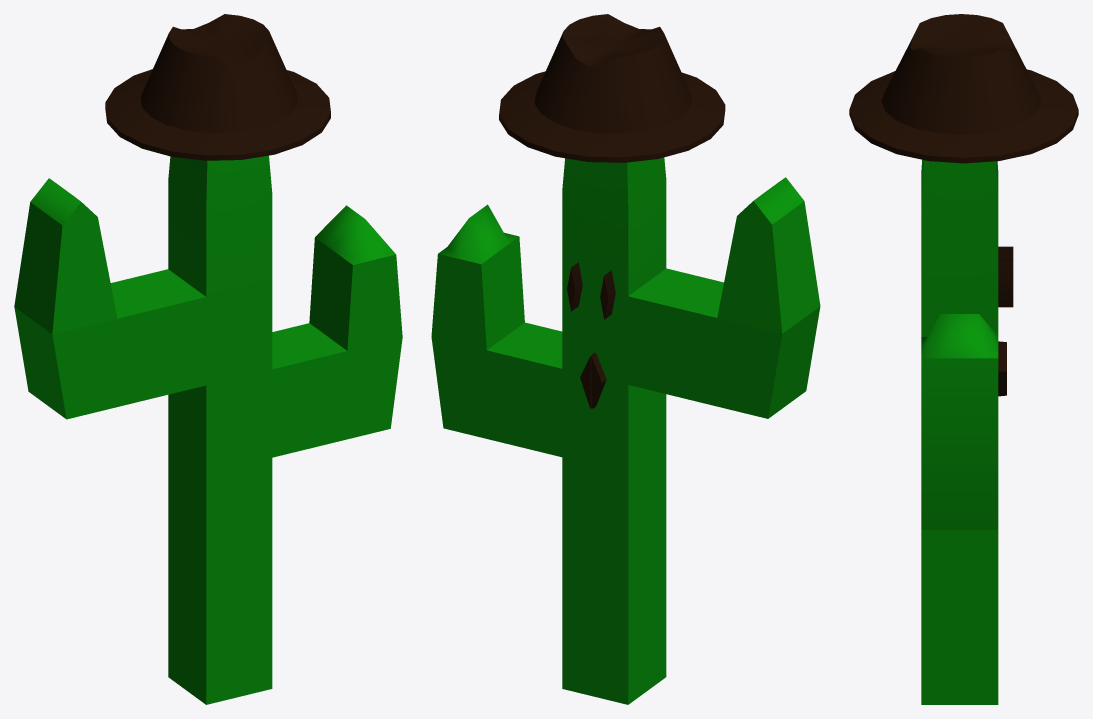
File: cactus 2.gltf
3 views of the same model, side by side, from view 1: azimuth 30°, elevation 25°; view 2: azimuth 150°, elevation 25°; view 3: azimuth 270°, elevation 25° (orthographic).
Parts seen in each view (by area): view 1: cactus; view 2: cactus; view 3: cactus.
Boxes of the visible parts, box(x1,y1,x2,y2) form: cactus: box(14, 14, 402, 704); cactus: box(431, 14, 820, 704); cactus: box(849, 14, 1078, 704).
Bounding box in the file's own units: 5.31 × 9.37 × 2.98.
